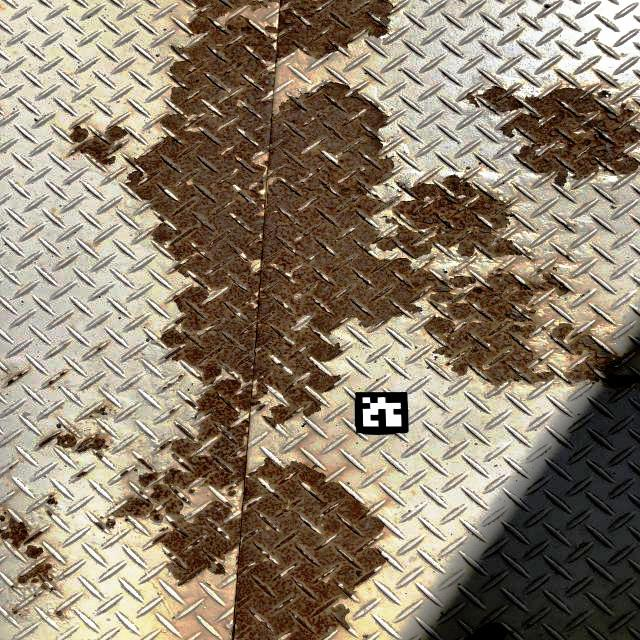Corrosion: (109, 0, 640, 640), (496, 83, 640, 189), (68, 122, 136, 166), (9, 554, 57, 602), (0, 507, 51, 550), (72, 426, 113, 455), (36, 426, 80, 451), (75, 402, 117, 423), (463, 621, 508, 640), (588, 320, 624, 343), (592, 69, 620, 88), (4, 369, 29, 389), (574, 55, 599, 72), (90, 518, 116, 533), (88, 341, 110, 357), (45, 492, 59, 517), (7, 605, 32, 618), (21, 545, 44, 559), (48, 369, 68, 385), (557, 219, 578, 233), (53, 609, 74, 622), (161, 380, 178, 393), (112, 168, 126, 179), (169, 406, 180, 415), (8, 461, 19, 470), (26, 506, 39, 513), (75, 471, 88, 478), (94, 452, 104, 461), (119, 469, 130, 477), (564, 253, 573, 262), (605, 45, 614, 52), (185, 33, 195, 38), (123, 412, 133, 417), (178, 374, 184, 380), (5, 369, 10, 376), (526, 624, 533, 629), (596, 312, 603, 317), (592, 37, 599, 41), (0, 4, 3, 11), (99, 515, 104, 519), (1, 377, 6, 381), (362, 635, 368, 638), (129, 382, 133, 386), (249, 412, 251, 418), (140, 353, 144, 356), (134, 358, 138, 361), (0, 542, 3, 545), (59, 407, 63, 409), (63, 344, 67, 346)
